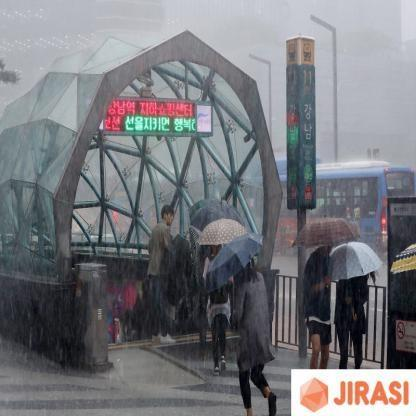Umbrella: (202, 230, 270, 300), (320, 233, 390, 292), (290, 206, 367, 258), (182, 188, 254, 237), (188, 216, 265, 256)
